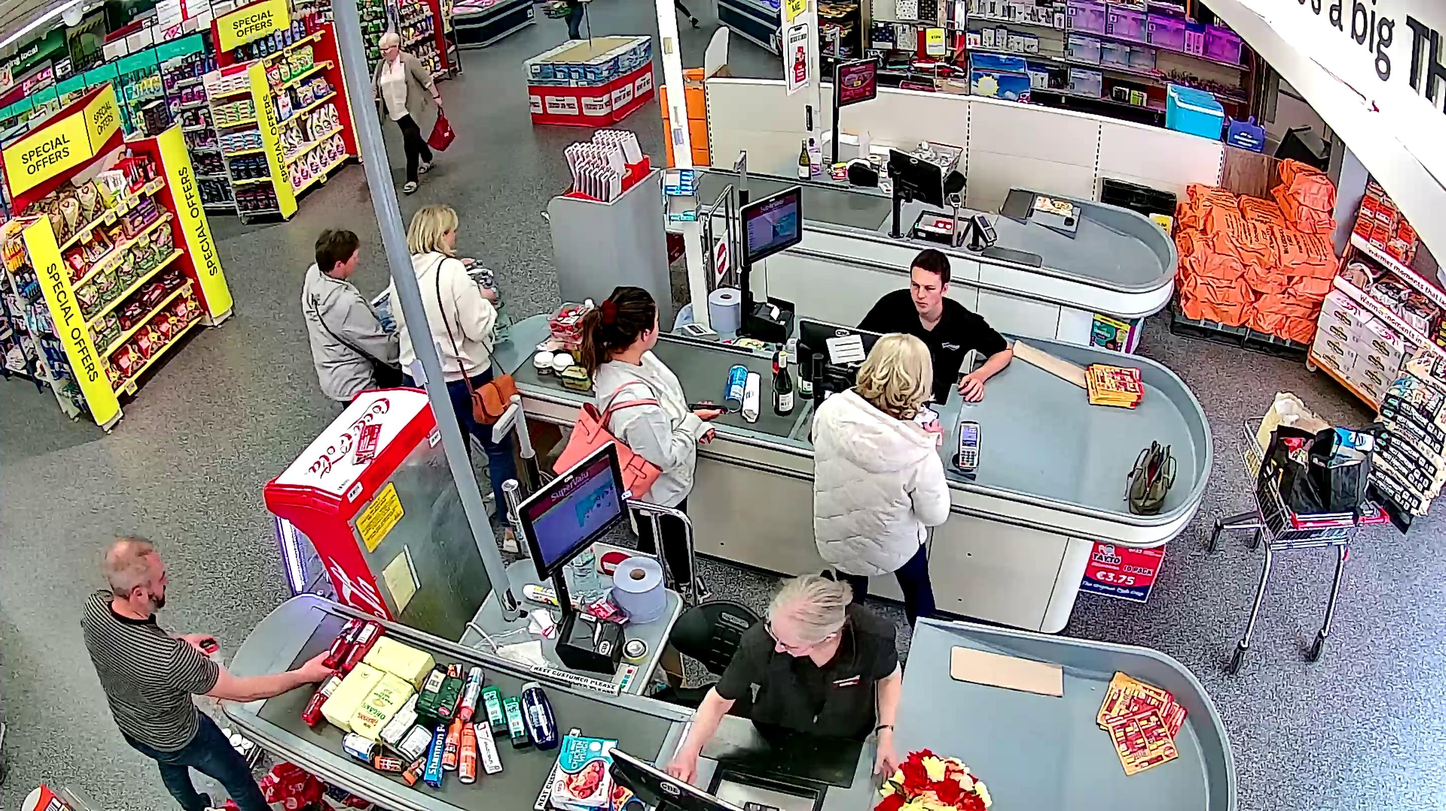backpack-or-handbag: (550, 404, 663, 513), (469, 371, 518, 427)
filled-shopping-bags: (426, 105, 455, 152)
occupied-checkout-counter: (512, 442, 921, 811), (734, 180, 1015, 477)
person: (584, 282, 725, 601), (390, 200, 512, 532), (371, 32, 443, 195)
person-with-backpack-handbag: (549, 280, 724, 599), (390, 196, 520, 535)
person-with-filled-shopping-bag-s-: (370, 32, 456, 195)
vacant-checkout-counter: (820, 36, 1031, 253)
